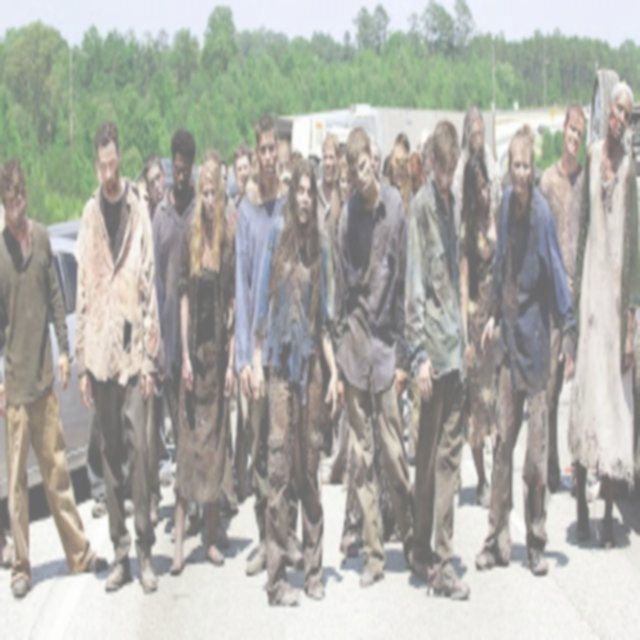pessoa: (0, 152, 110, 596), (474, 130, 580, 579), (72, 118, 164, 596), (250, 156, 338, 616), (332, 122, 416, 590), (233, 109, 307, 576), (570, 76, 640, 552), (404, 118, 471, 608), (167, 156, 241, 578), (151, 127, 202, 526), (538, 102, 588, 496), (458, 152, 503, 509), (451, 102, 504, 274), (327, 152, 358, 324), (366, 125, 436, 195), (313, 130, 340, 241), (230, 379, 253, 501), (86, 403, 106, 524), (276, 136, 320, 188), (146, 393, 162, 534), (142, 150, 171, 220), (340, 477, 360, 571), (376, 449, 396, 542), (118, 417, 136, 515), (524, 115, 542, 190), (232, 142, 252, 209), (193, 148, 216, 174), (90, 152, 104, 191)
